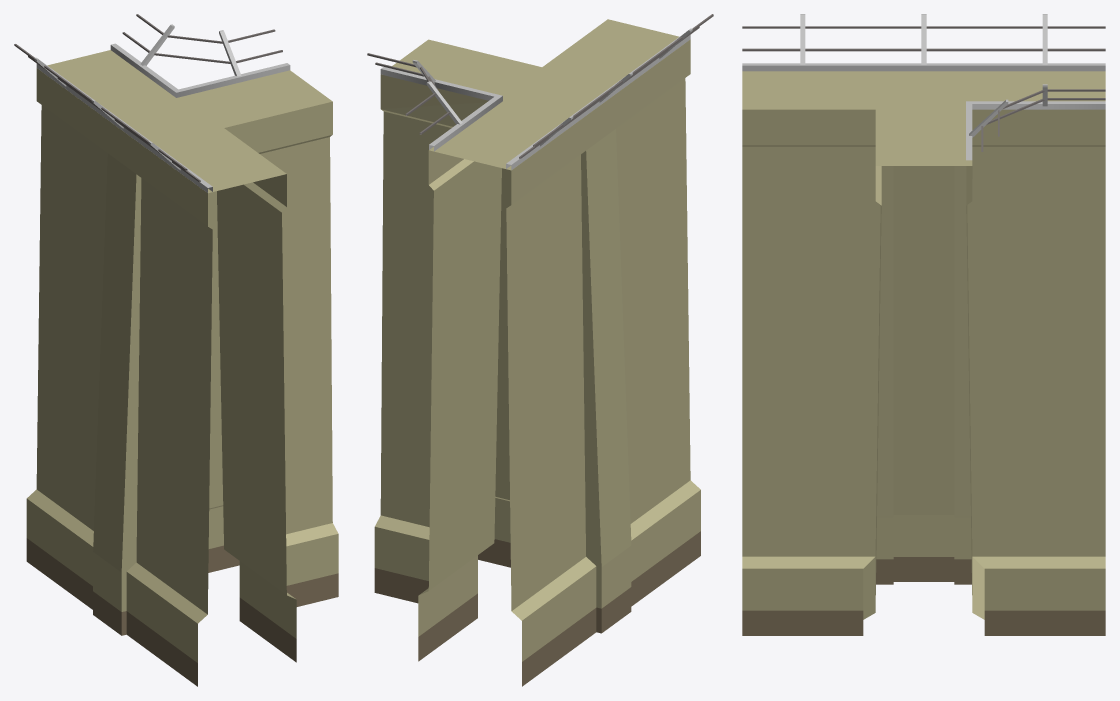
Rendered from SM_Wall_Big_Corner_A_Left_600.FBX.
The picture shows the model from 3 angles, left to right: view 1: azimuth 30°, elevation 25°; view 2: azimuth 150°, elevation 25°; view 3: azimuth 270°, elevation 25°; orthographic projection. The views are drawn at different scales.
Visible parts, largest first — view 1: SM_Wall_Big_Corner_A_Left_600; view 2: SM_Wall_Big_Corner_A_Left_600; view 3: SM_Wall_Big_Corner_A_Left_600.
Boxes of the visible parts, x1=… form: SM_Wall_Big_Corner_A_Left_600: x1=14, y1=14, x2=338, y2=686; SM_Wall_Big_Corner_A_Left_600: x1=367, y1=14, x2=713, y2=686; SM_Wall_Big_Corner_A_Left_600: x1=742, y1=14, x2=1105, y2=635.
Size of the model in its own units: 440 by 600 by 1022.
